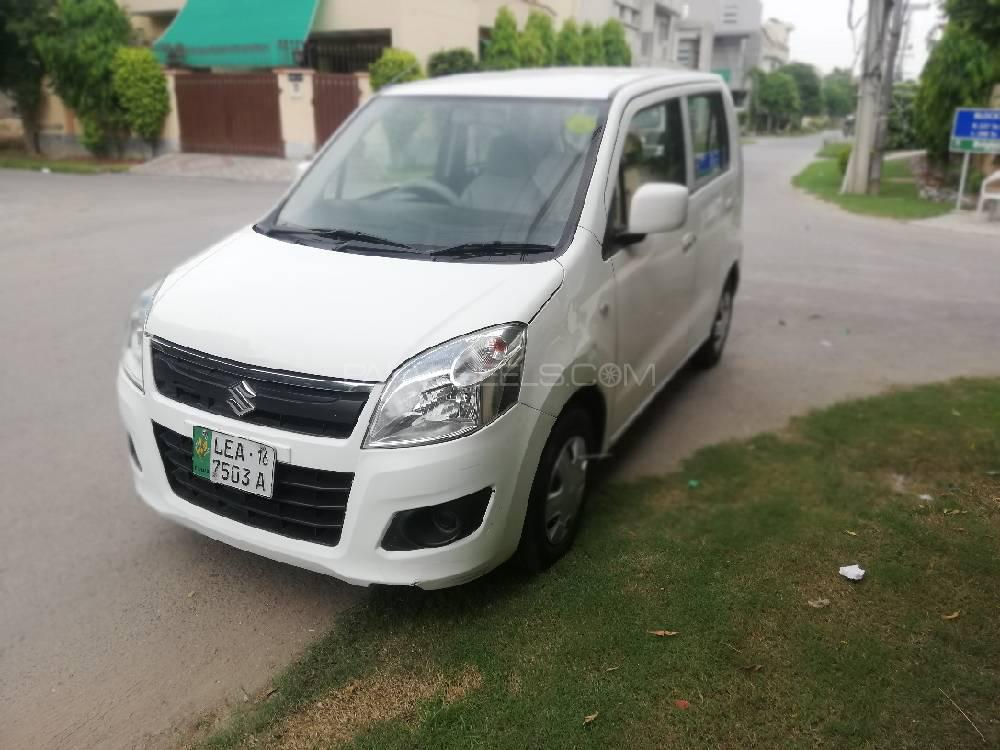license plate: (187, 433, 276, 486)
